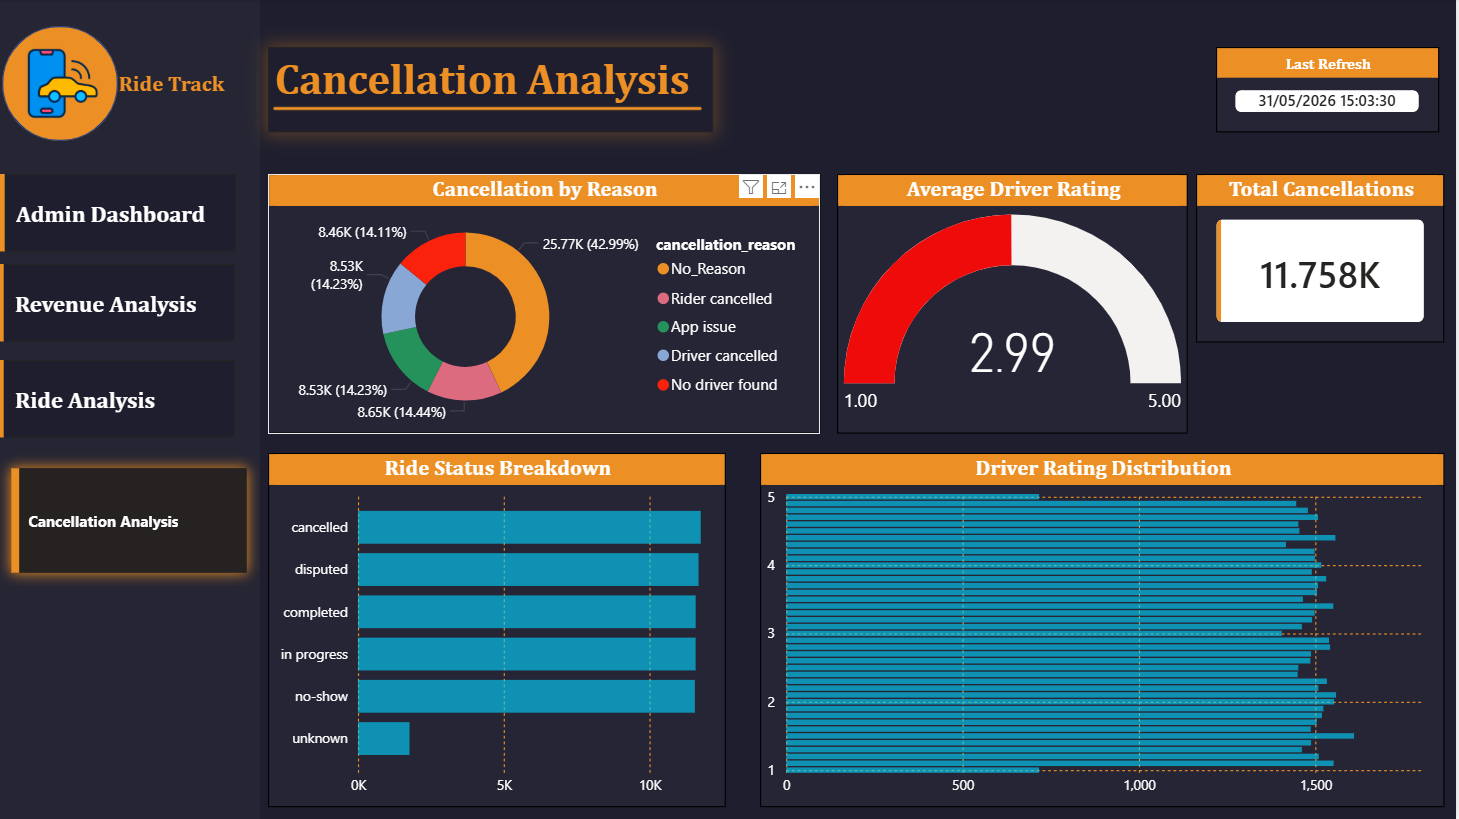

The dashboard page shown, as its layout file describes it:
{"tool":"powerbi","page":{"name":"Cancellation Analysis","canvas":[1280,720],"ordinal":3},"visuals":[{"type":"textbox","box":[237.1,42.1,390.7,74.9],"z":0,"group":"g2"},{"type":"donutChart","title":"Cancellation by Reason","fields":{"Category":["gold_ridesharing.cancellation_reason"],"Y":["CountNonNull(gold_ridesharing.trip_id)"]},"box":[237.1,153.7,484.7,228.3],"z":0},{"type":"shape","box":[0,0,230,720],"z":500,"group":"g3"},{"type":"shape","box":[240.6,88.6,378.4,14.9],"z":1000,"group":"g2"},{"type":"clusteredBarChart","title":"Ride Status Breakdown","fields":{"Category":["gold_ridesharing.ride_status"],"Y":["CountNonNull(gold_ridesharing.trip_id)"]},"box":[237.1,398.6,402.1,310.8],"z":1000},{"type":"textbox","box":[101,57.9,115,33.4],"z":2000,"group":"g4"},{"type":"gauge","title":"Average Driver Rating","fields":{"Y":["Avg(gold_ridesharing.driver_rating)"]},"box":[736.7,153.7,308.2,228.3],"z":2000},{"type":"clusteredBarChart","title":"Driver Rating Distribution","fields":{"Category":["gold_ridesharing.driver_rating"],"Y":["CountNonNull(gold_ridesharing.trip_id)"]},"box":[669.1,398.6,601.5,310.8],"z":3000},{"type":"group","id":"g1","title":"Group 1","box":[0,0,230,720],"z":4000},{"type":"cardVisual","title":"Total Cancellations","fields":{"Data":["CountNonNull(gold_ridesharing.trip_id)"]},"box":[1052.1,153.7,218.2,148.4],"z":5000},{"type":"group","id":"g2","title":"Group 3","box":[237.1,42.1,390.7,74.9],"z":6000},{"type":"group","id":"g3","title":"Group 2","box":[0,0,230,720],"z":6502,"group":"g1"},{"type":"group","id":"g4","title":"Group 2","box":[3.5,23.7,212.5,101],"z":7000},{"type":"cardVisual","title":"Last Refresh","fields":{"Data":["gold_ridesharing.Last Refresh"]},"box":[1069.5,42.1,195.8,74.6],"z":8000},{"type":"shape","box":[3.5,23.7,101.9,101],"z":9000,"group":"g4"},{"type":"pageNavigator","box":[0,233.1,208.2,68.8],"z":10000,"group":"g3"},{"type":"image","box":[22.8,42.1,67.6,64.1],"z":11000,"group":"g4"},{"type":"pageNavigator","box":[0,400.6,230,115],"z":11000,"group":"g3"},{"type":"pageNavigator","box":[0,316.8,208.2,68.8],"z":12000,"group":"g3"},{"type":"pageNavigator","box":[0.8,153.7,208.2,68.8],"z":12500,"group":"g1"}]}

Visuals, with their boxes in screenshot pixels (x1, y1, x2, y2), scaled from the page's 1280x720 canvas onto the 1459x819 screenshot:
textbox: [left=270, top=48, right=716, bottom=133]
"Cancellation by Reason" donutChart: [left=270, top=175, right=823, bottom=435]
shape: [left=0, top=0, right=262, bottom=818]
shape: [left=274, top=101, right=706, bottom=118]
"Ride Status Breakdown" clusteredBarChart: [left=270, top=453, right=729, bottom=807]
textbox: [left=115, top=66, right=246, bottom=104]
"Average Driver Rating" gauge: [left=840, top=175, right=1191, bottom=435]
"Driver Rating Distribution" clusteredBarChart: [left=763, top=453, right=1448, bottom=807]
"Group 1" group: [left=0, top=0, right=262, bottom=818]
"Total Cancellations" cardVisual: [left=1199, top=175, right=1448, bottom=344]
"Group 3" group: [left=270, top=48, right=716, bottom=133]
"Group 2" group: [left=0, top=0, right=262, bottom=818]
"Group 2" group: [left=4, top=27, right=246, bottom=142]
"Last Refresh" cardVisual: [left=1219, top=48, right=1442, bottom=133]
shape: [left=4, top=27, right=120, bottom=142]
pageNavigator: [left=0, top=265, right=237, bottom=343]
image: [left=26, top=48, right=103, bottom=121]
pageNavigator: [left=0, top=456, right=262, bottom=586]
pageNavigator: [left=0, top=360, right=237, bottom=439]
pageNavigator: [left=1, top=175, right=238, bottom=253]
